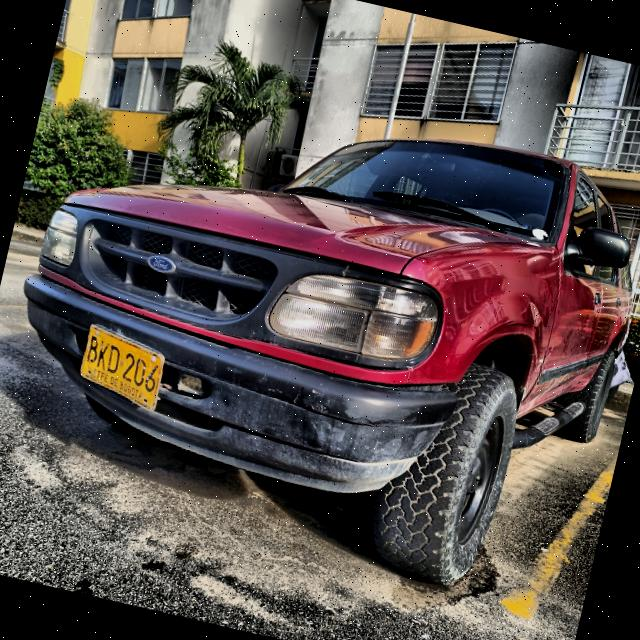plate: (81, 326, 162, 409)
